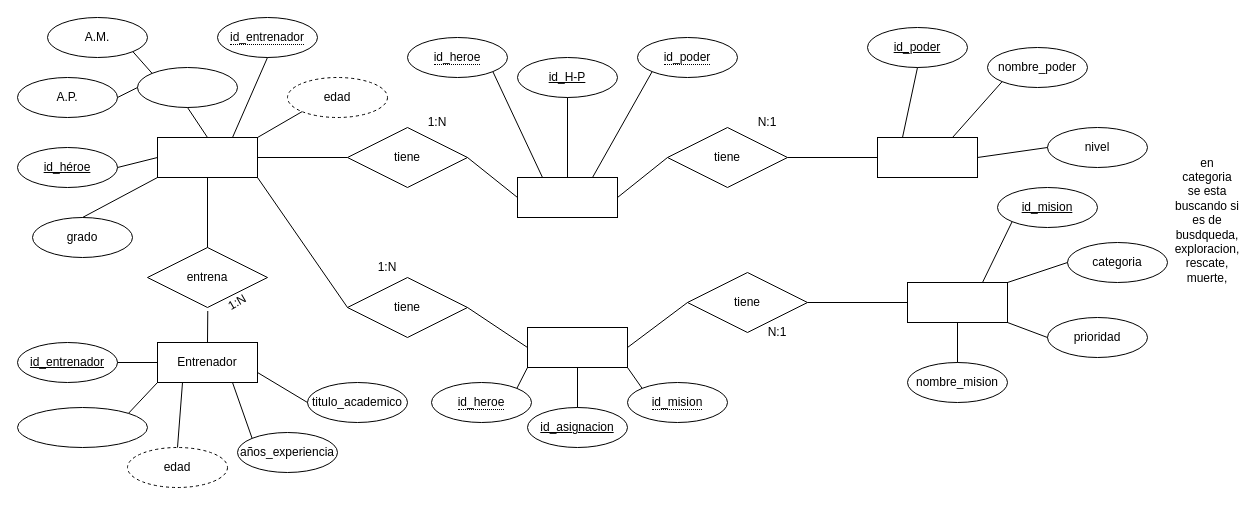
Image size: 1257x505. Some labels were removed from this diagram. Each missing label, with the centre of its shape:
"Asignación" belongs at pixel 577 347.
"H-P" belongs at pixel 567 197.
"Héroe" belongs at pixel 207 157.
"Misión" belongs at pixel 957 302.
"nombre" belongs at pixel 187 87.
"nombre_entrenador" belongs at pixel 82 427.
"Poder" belongs at pixel 927 157.
